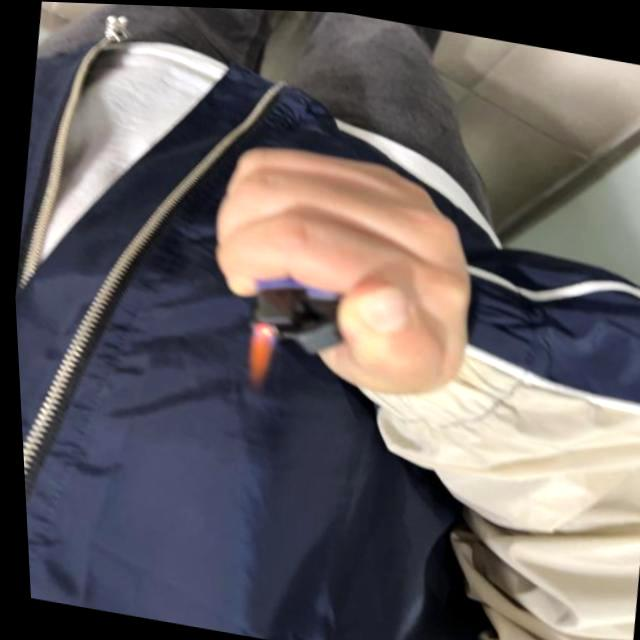fire: (232, 320, 274, 388)
